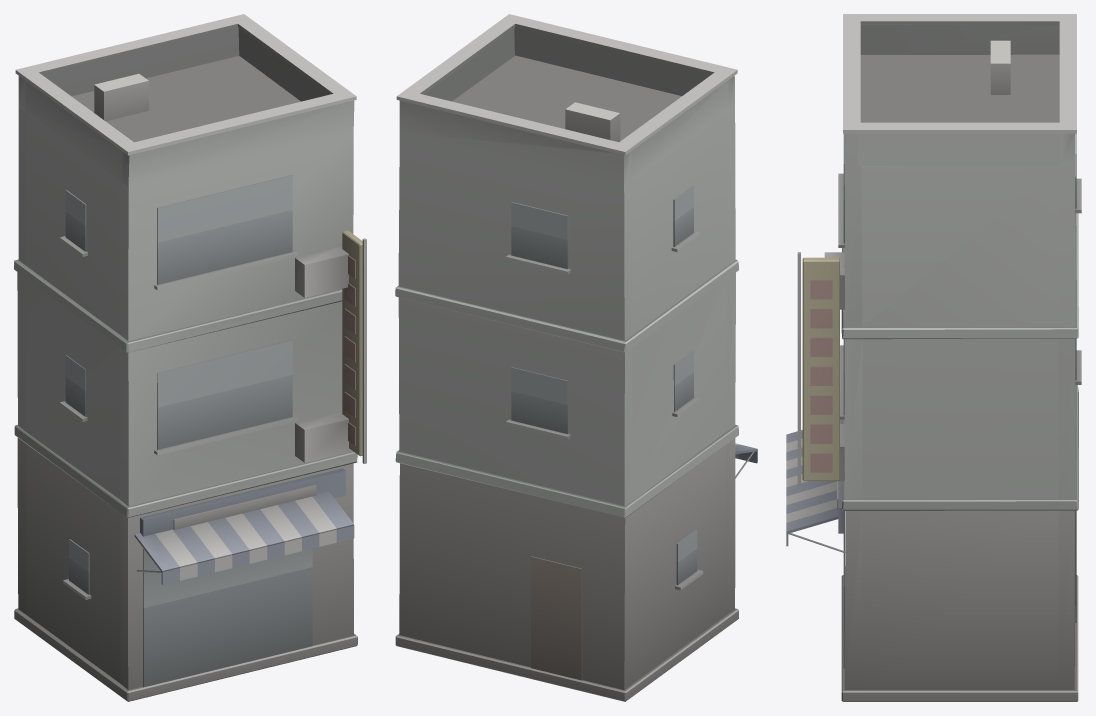
Rendered from shop3.lod.glb.
The picture shows the model from 3 angles, left to right: view 1: azimuth 30°, elevation 25°; view 2: azimuth 150°, elevation 25°; view 3: azimuth 270°, elevation 25°; orthographic projection. The views are drawn at different scales.
Visible parts, largest first — view 1: shop3.lod; view 2: shop3.lod; view 3: shop3.lod.
Part boxes in pixels (x1,y1,x2,y2): shop3.lod: [14, 14, 366, 701]; shop3.lod: [395, 14, 757, 701]; shop3.lod: [786, 14, 1081, 701].
Size of the model in its own units: 4.16 by 9.33 by 4.37.
